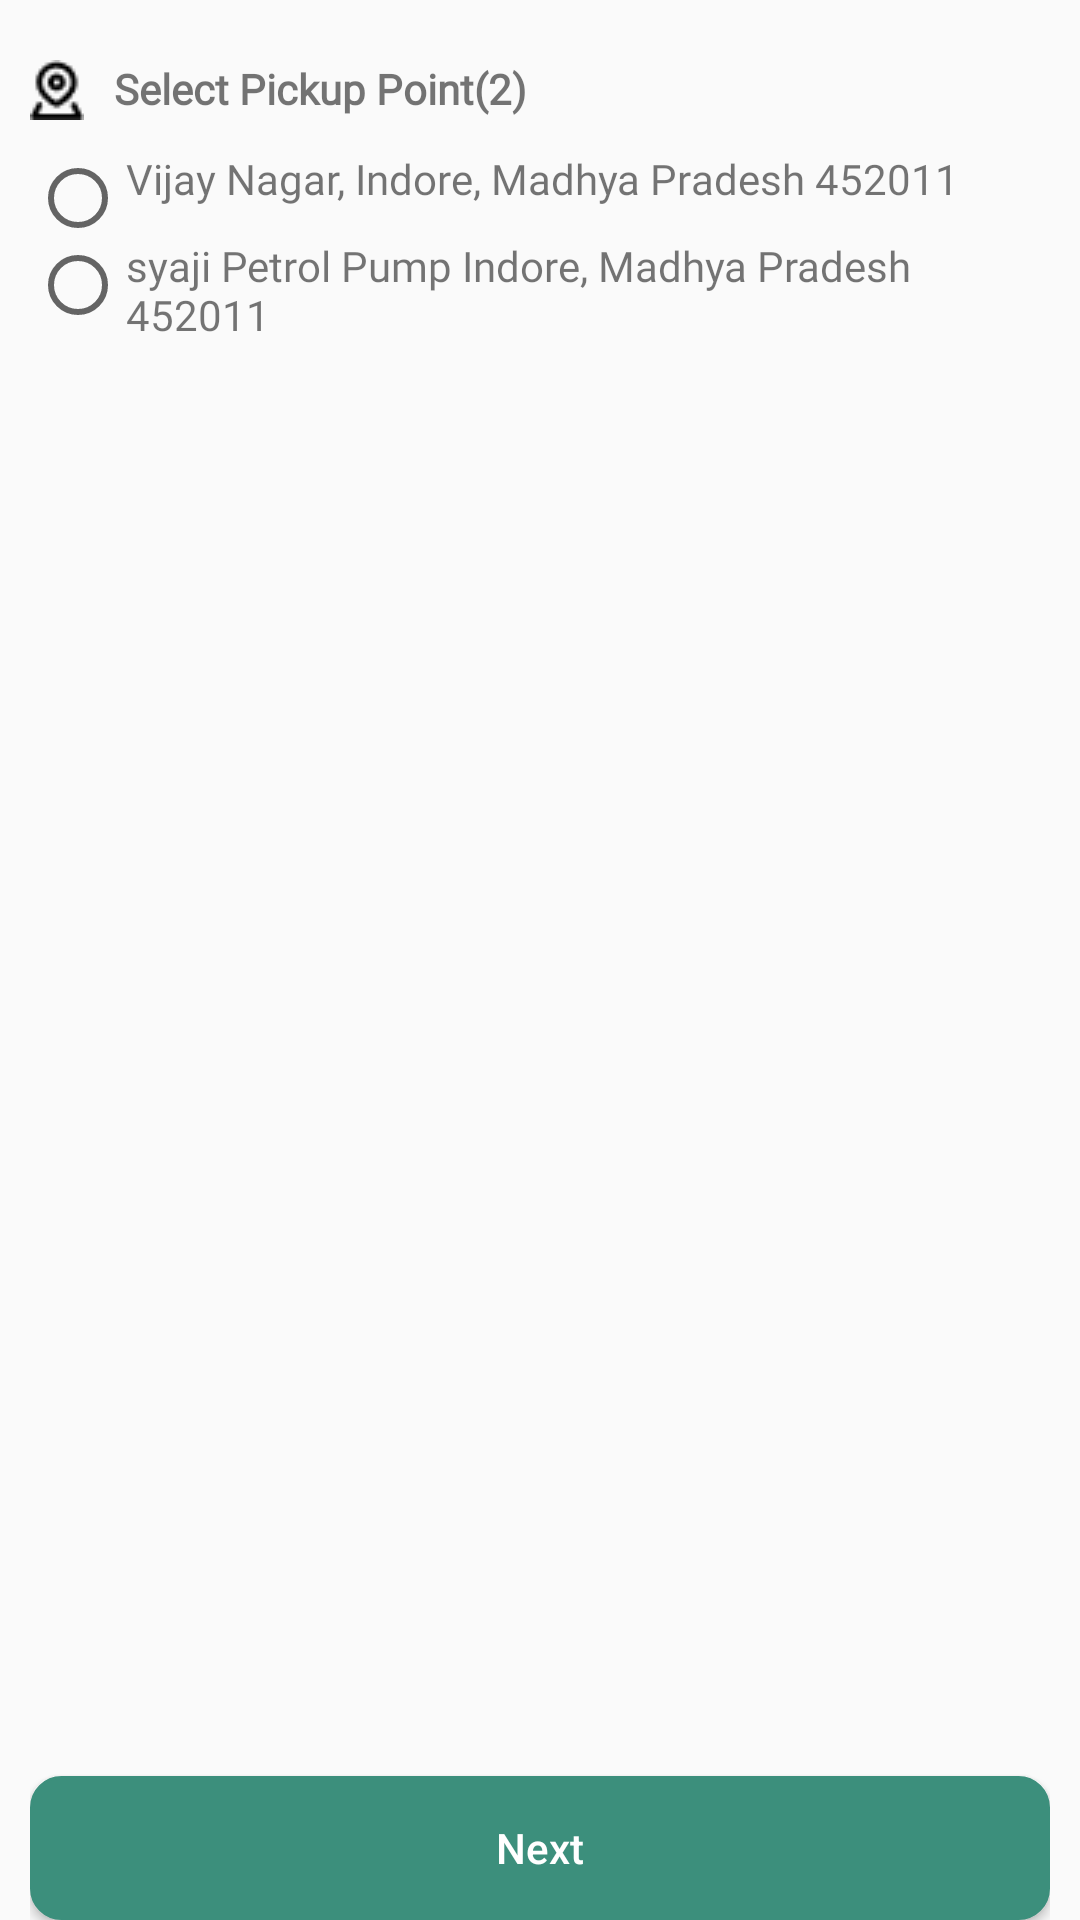

Named icons in this screenshot (1080w x 1920h) and their bounding boxes, (x1, y1, x2, y2):
pickuplocation: (30, 60, 84, 120)
